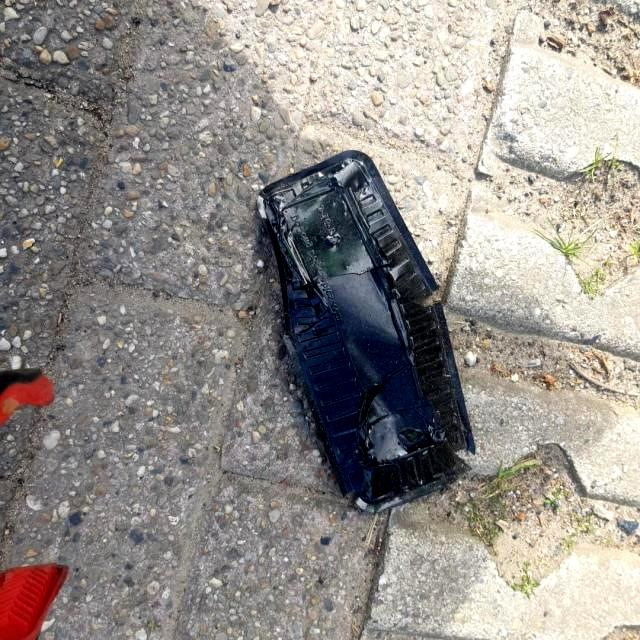Paper: (254, 147, 478, 516)
